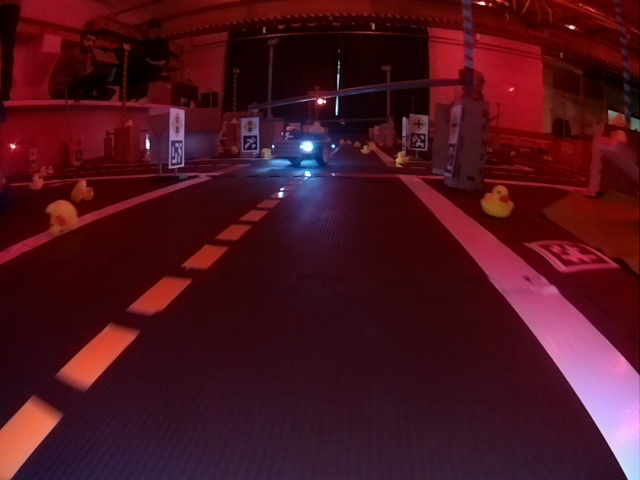Duckie: (481, 187, 514, 216)
Duckiebot: (272, 132, 331, 165)
QR code: (529, 240, 618, 270), (170, 142, 184, 167), (243, 136, 256, 150), (411, 135, 424, 149)
Signal sign: (171, 110, 184, 133), (242, 119, 257, 134)
Traffic light: (316, 95, 326, 106)
